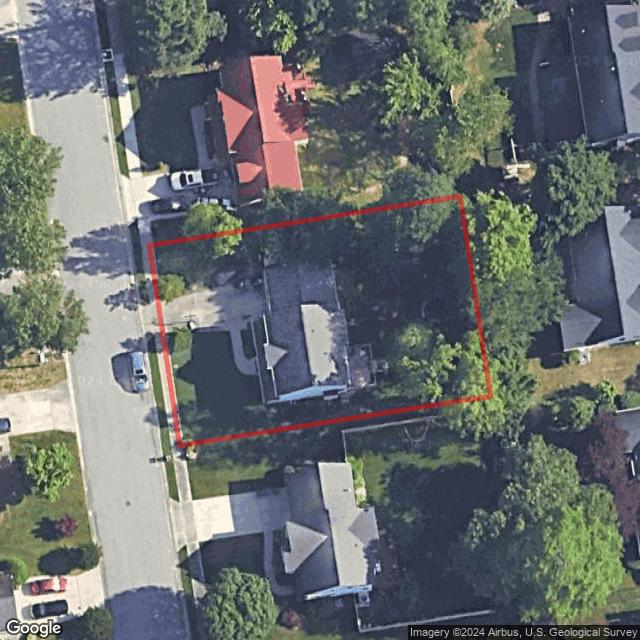Driveway: (159, 281, 265, 332)
Extra-Driveway: (141, 302, 163, 339)
Extra-Lawn: (146, 336, 170, 446), (133, 245, 150, 306)
Extra-Sidewalk: (155, 333, 180, 446), (142, 244, 161, 304)
House: (251, 259, 350, 403)
Lawn: (151, 196, 490, 444)
Other: (349, 344, 388, 388)
Sidewalk: (162, 332, 184, 444), (231, 330, 259, 375)
